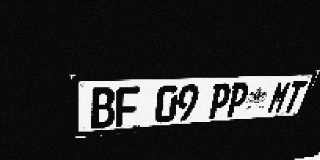0: (154, 85, 180, 124)
9: (175, 84, 201, 122)
B: (90, 87, 115, 129)
F: (115, 86, 140, 127)
M: (266, 81, 293, 114)
P: (206, 83, 233, 119), (224, 82, 251, 118)
T: (281, 80, 308, 113)
